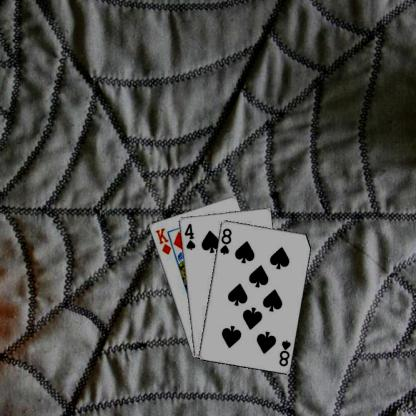4S: (182, 221, 196, 250)
8S: (276, 338, 292, 368), (218, 226, 232, 256)
KD: (152, 226, 172, 256)
